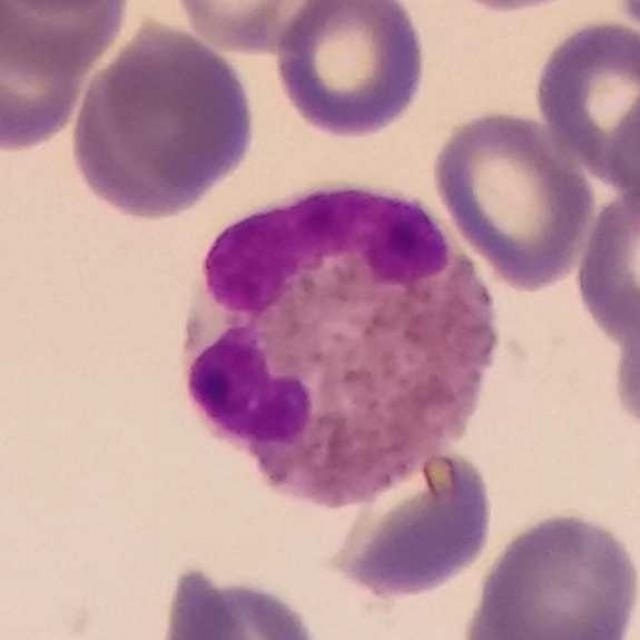eosino: (171, 182, 503, 508)
